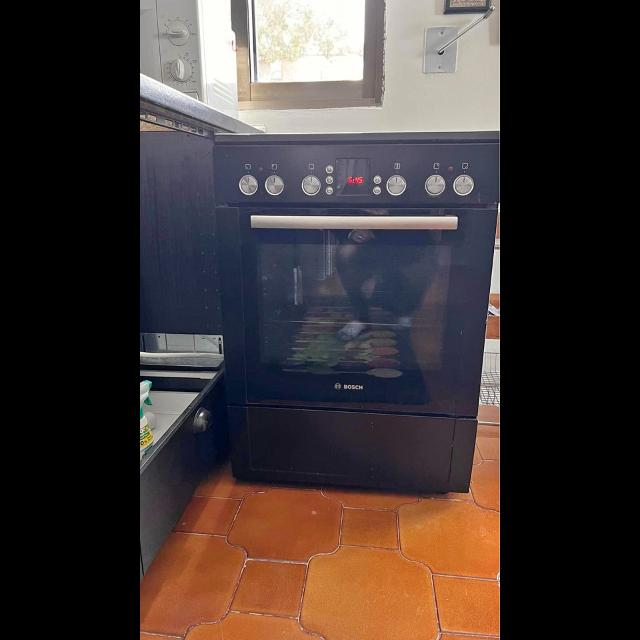Oven: (212, 129, 500, 415)
